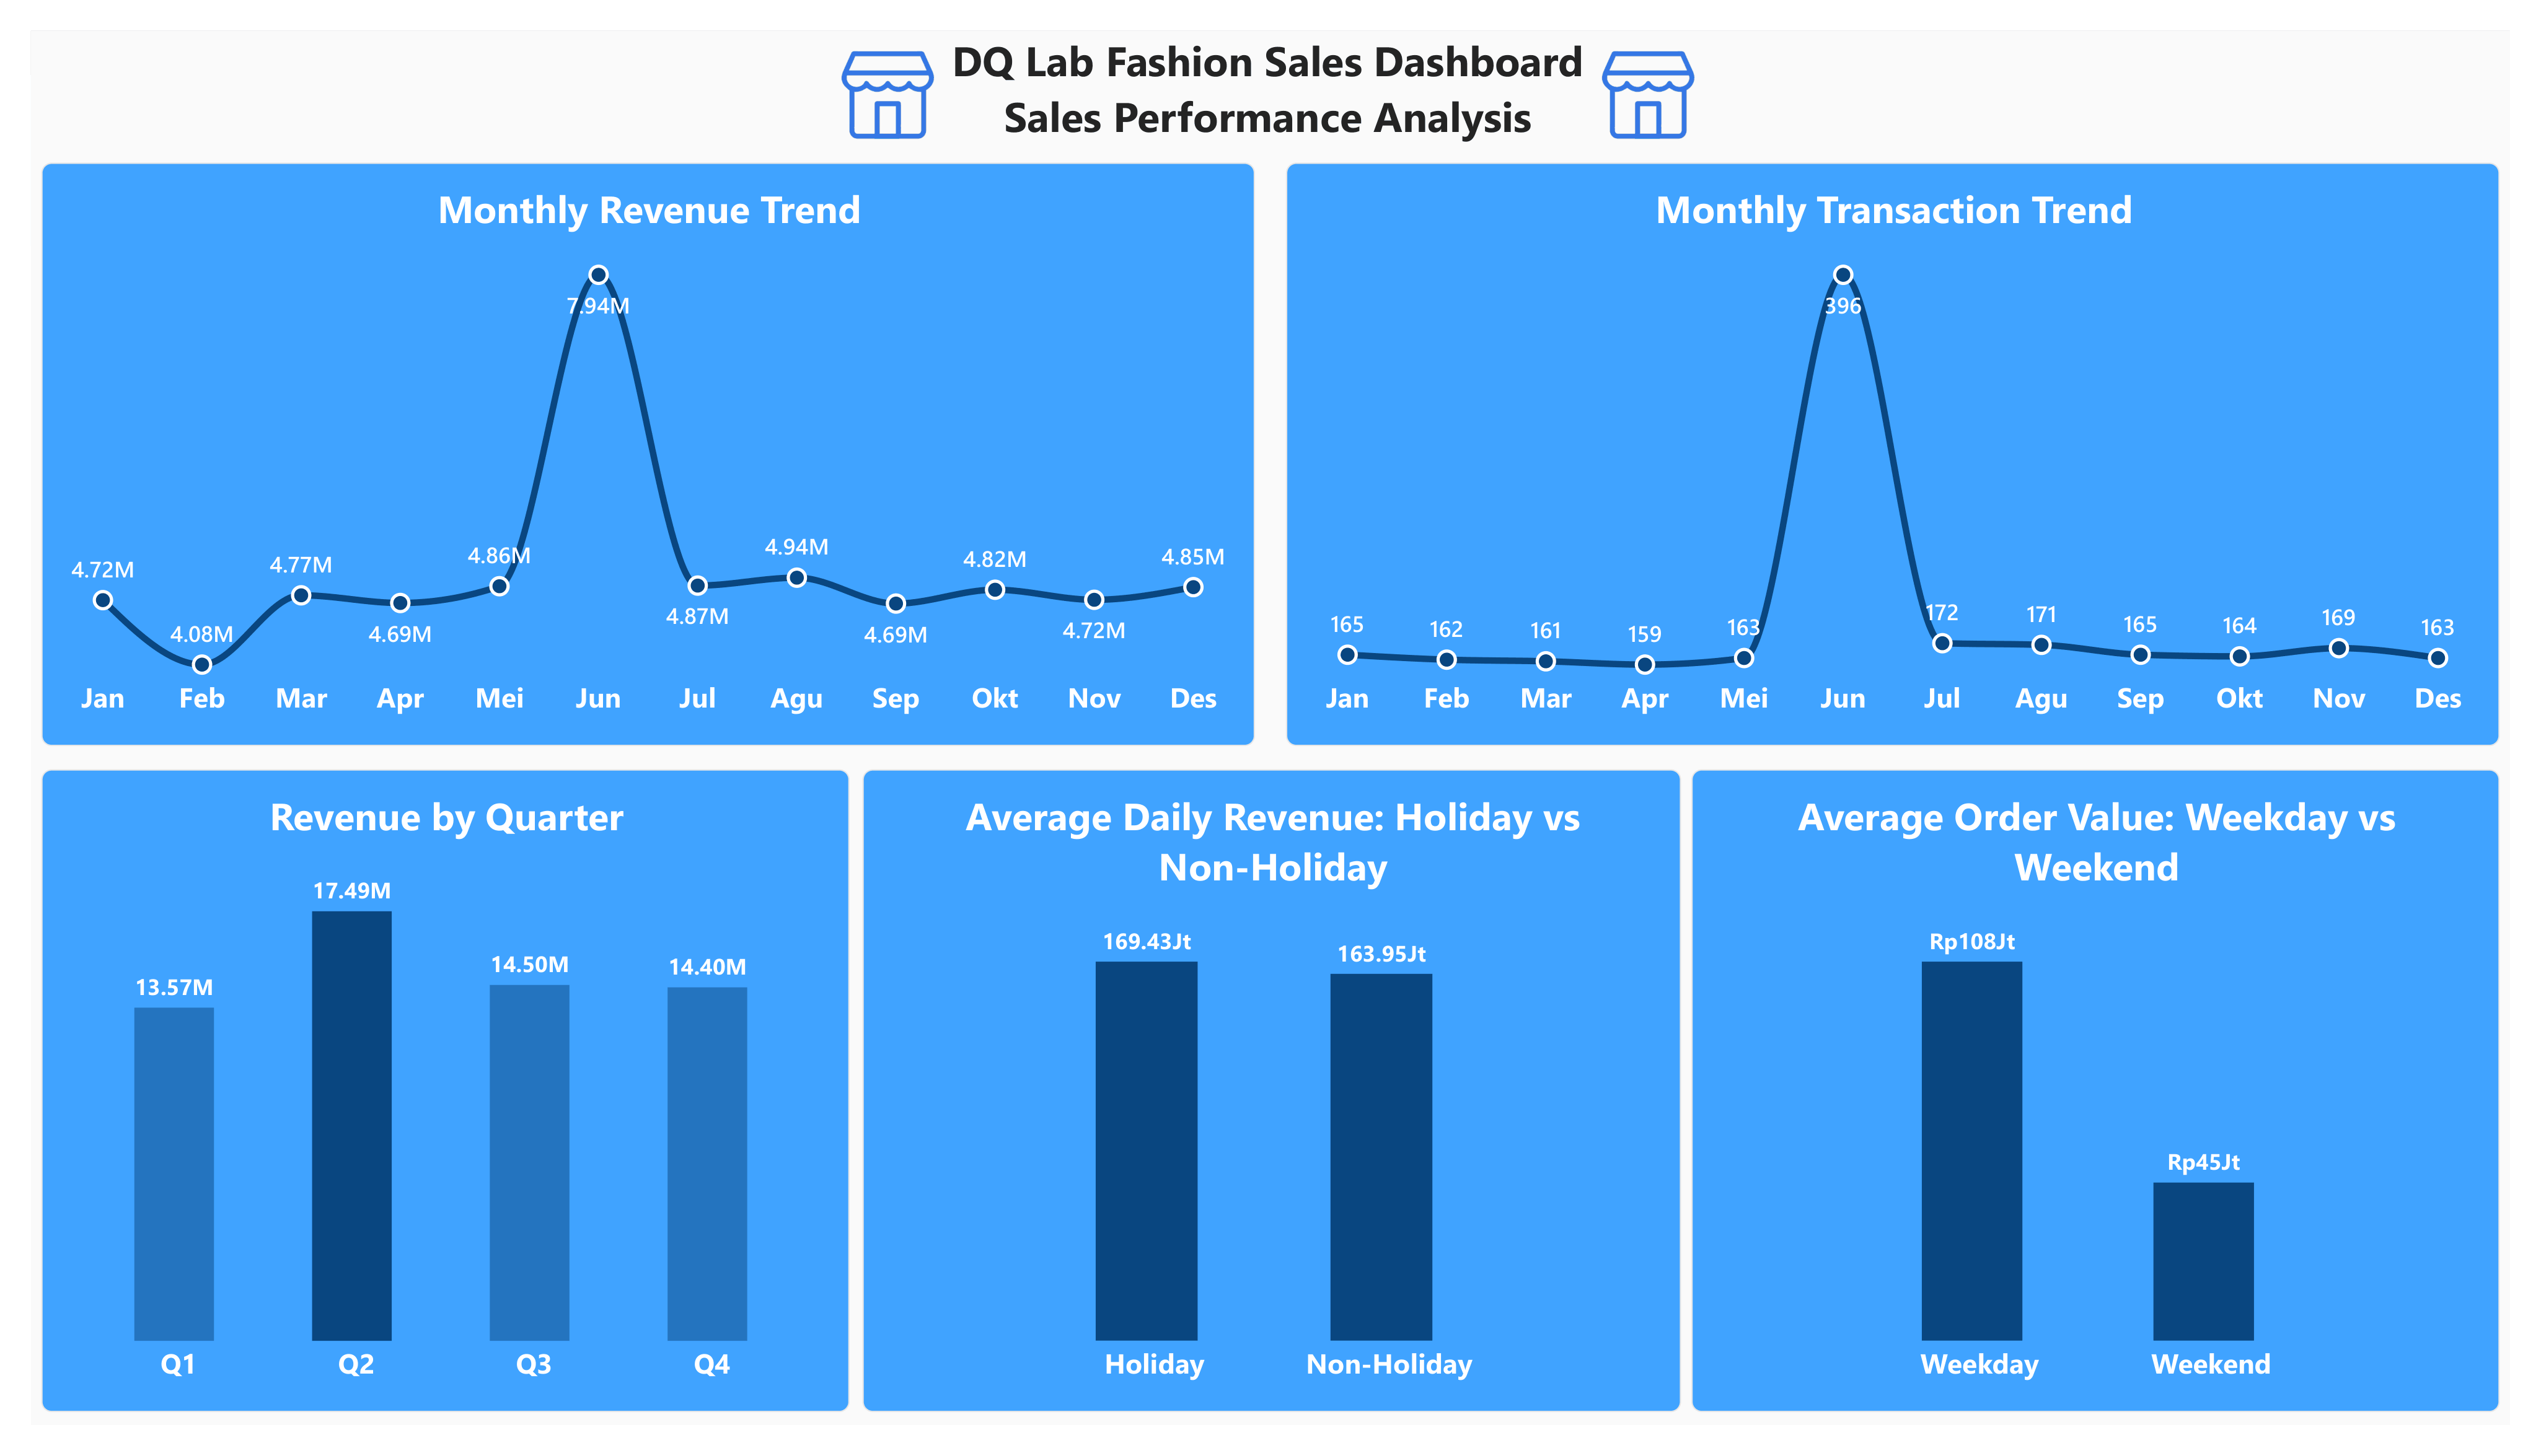

The page's visual inventory and layout, read from the dashboard file:
{"tool":"powerbi","page":{"name":"Sales Performance","canvas":[1920,1080],"ordinal":1},"visuals":[{"type":"textbox","box":[710.1,0,496.1,102.9],"z":0},{"type":"lineChart","title":"Monthly Revenue Trend","fields":{"Category":["Calendar.Month"],"Y":["Transaksi Penjualan.Total Revenue"]},"box":[8,102,940,452],"z":1000},{"type":"lineChart","title":"Monthly Transaction Trend","fields":{"Category":["Calendar.Month"],"Y":["Transaksi Penjualan.Total Transactions"]},"box":[972,102,940,452],"z":2000},{"type":"columnChart","title":"Revenue by Quarter","fields":{"Category":["Calendar.Quarter"],"Y":["Transaksi Penjualan.Total Revenue"]},"box":[8,572,626,498],"z":3000},{"type":"columnChart","title":"Average Daily Revenue: Holiday vs Non-Holiday","fields":{"Category":["Calendar.Is Holiday"],"Y":["Transaksi Penjualan.Average Revenue per Day"]},"box":[644,572,634,498],"z":4000},{"type":"columnChart","title":"Average Order Value: Weekday vs Weekend","fields":{"Category":["Calendar.Is Weekend"],"Y":["Transaksi Penjualan.Average Order Value"]},"box":[1286,572,626,498],"z":5000},{"type":"image","box":[617.5,12.3,92.9,80],"z":6000},{"type":"image","box":[1206.2,12.3,92.9,80],"z":7000}]}

Visuals, with their boxes in screenshot pixels (x1, y1, x2, y2):
textbox: left=933, top=20, right=1581, bottom=154
"Monthly Revenue Trend" lineChart: left=17, top=153, right=1244, bottom=743
"Monthly Transaction Trend" lineChart: left=1275, top=153, right=2502, bottom=743
"Revenue by Quarter" columnChart: left=17, top=766, right=834, bottom=1416
"Average Daily Revenue: Holiday vs Non-Holiday" columnChart: left=847, top=766, right=1675, bottom=1416
"Average Order Value: Weekday vs Weekend" columnChart: left=1685, top=766, right=2502, bottom=1416
image: left=813, top=36, right=934, bottom=140
image: left=1581, top=36, right=1702, bottom=140
